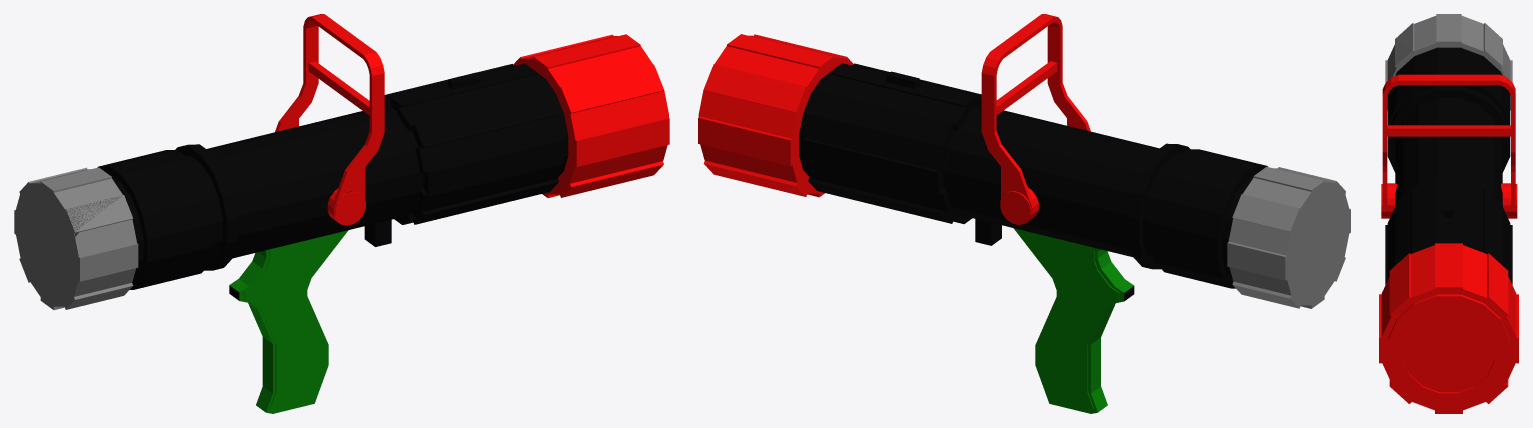
File: FireHose.fbx
3 renders of one model, left to right at view 1: azimuth 30°, elevation 25°; view 2: azimuth 150°, elevation 25°; view 3: azimuth 270°, elevation 25°, orthographic. The views are drawn at different scales.
Parts seen in each view (by area): view 1: object_0; view 2: object_0; view 3: object_0.
Part boxes in pixels (left/top/right/bottom): object_0: left=14, top=14, right=669, bottom=413; object_0: left=698, top=14, right=1350, bottom=413; object_0: left=1379, top=14, right=1518, bottom=413.
Bounding box in the file's own units: 3935 × 2281 × 835.
